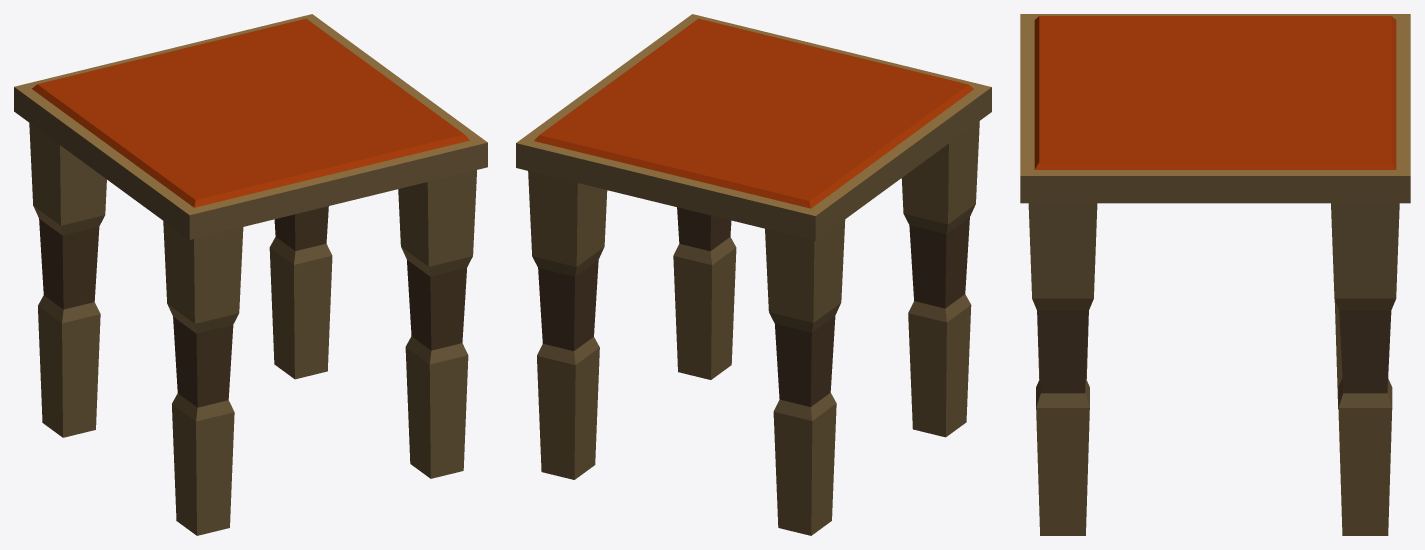
Rendered from chai1.fbx.
3 renders of one model, left to right at view 1: azimuth 30°, elevation 25°; view 2: azimuth 150°, elevation 25°; view 3: azimuth 270°, elevation 25°, orthographic. The views are drawn at different scales.
Parts seen in each view (by area): view 1: Object066; view 2: Object066; view 3: Object066.
Part boxes in pixels (x1=…): Object066: x1=14, y1=14, x2=487, y2=535; Object066: x1=516, y1=14, x2=991, y2=535; Object066: x1=1020, y1=14, x2=1410, y2=535.
Bounding box in the file's own units: 20.02 × 21.58 × 20.41.
